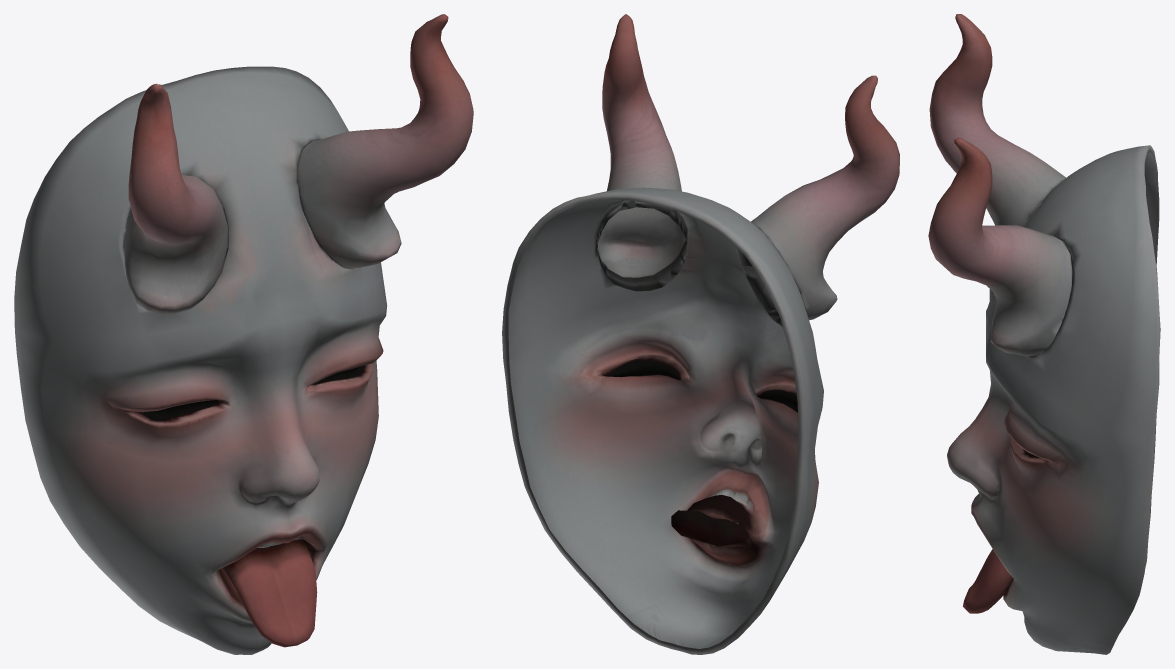
The model's file is temaki_mask_horned_demon.glb.
3 renders of one model, left to right at view 1: azimuth 30°, elevation 25°; view 2: azimuth 150°, elevation 25°; view 3: azimuth 270°, elevation 25°, orthographic. The views are drawn at different scales.
Visible parts, largest first — view 1: 77676_76.001_0; view 2: 77676_76.001_0; view 3: 77676_76.001_0.
Boxes of the visible parts, x1,y1,x2,y2 form: 77676_76.001_0: [14, 14, 473, 654]; 77676_76.001_0: [502, 14, 899, 654]; 77676_76.001_0: [928, 14, 1160, 654].
Bounding box in the file's own units: 0.8383 × 1.47 × 0.5438.
Materials: 1 (1 with a texture image).
